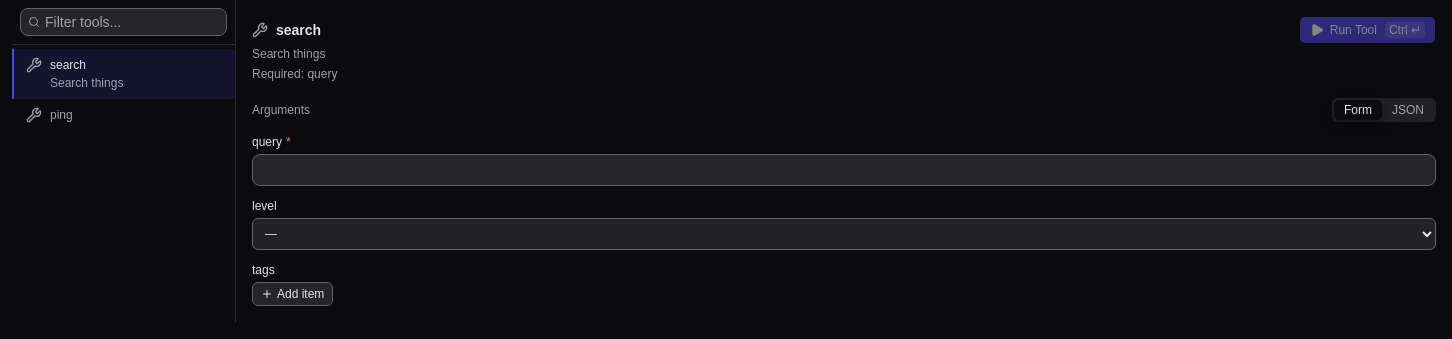
ToolPanel required arguments and run shortcut › keeps the selected tool and typed arguments after visiting another tool
The image size is (1452, 339).
Type "cats" into the field labelled "query" at (844, 170), box [252,154,1436,186]
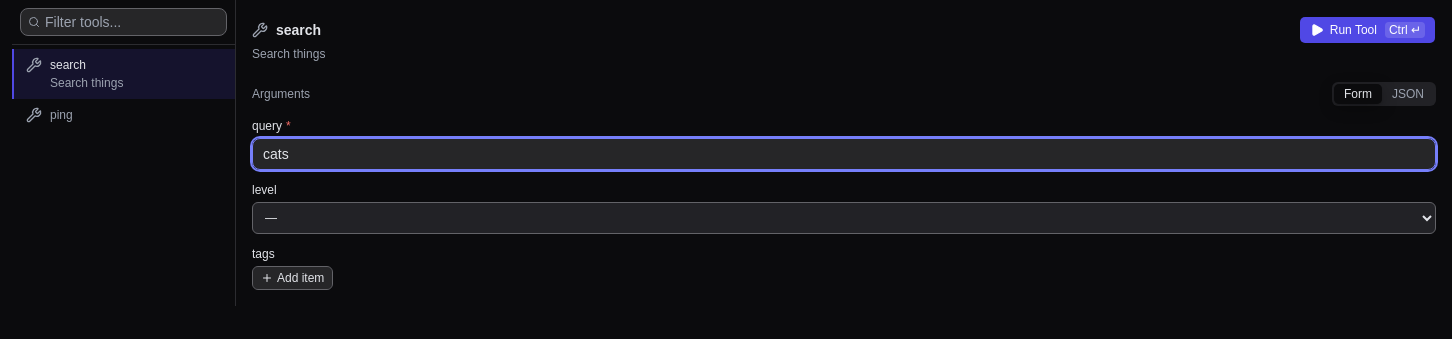
Click the button "ping" at (124, 115), box [12,99,235,131]
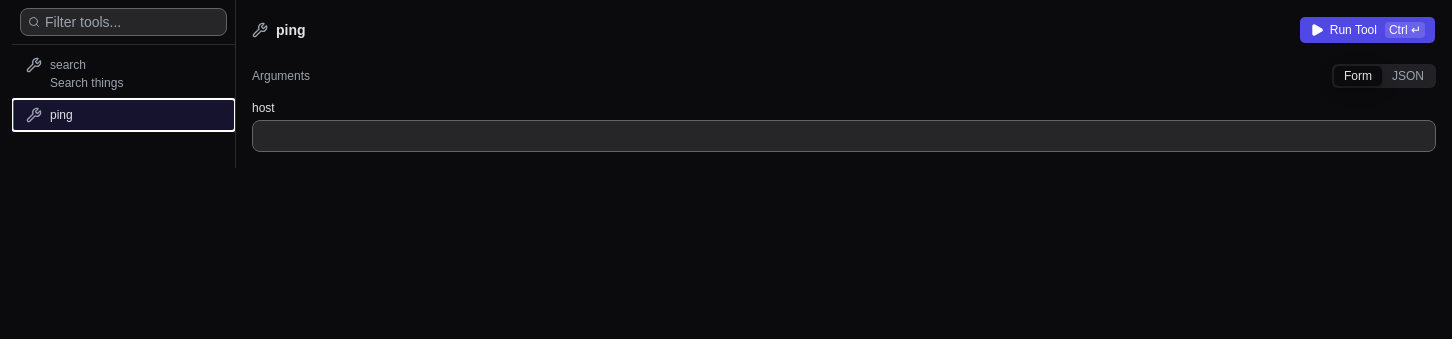
Type "example.com" into the field labelled "host" at (844, 136), box [252,120,1436,152]
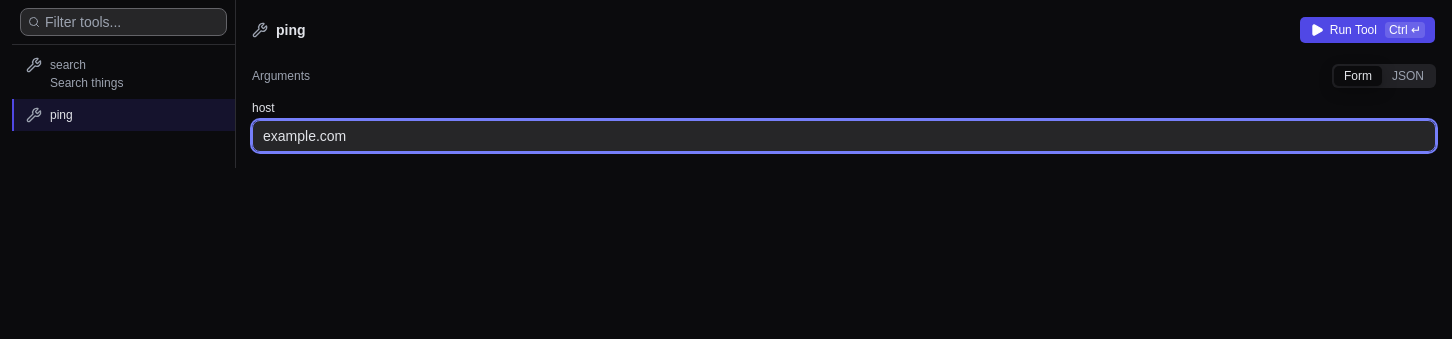
Click the button "search Search things" at (124, 74), box [12,49,235,99]
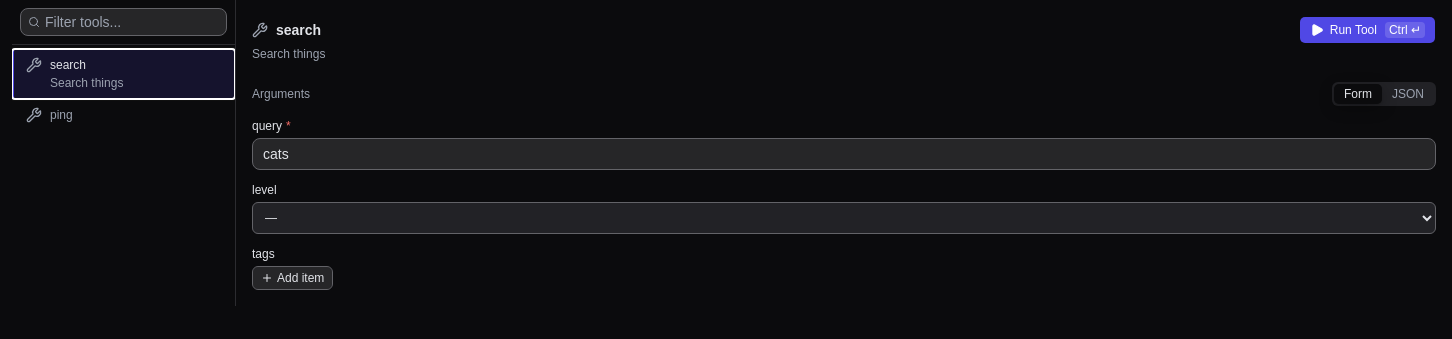
Result: the field labelled "query" holds "cats" at [252,138,1436,170]
Click the button "ping" at (124, 115), box [12,99,235,131]
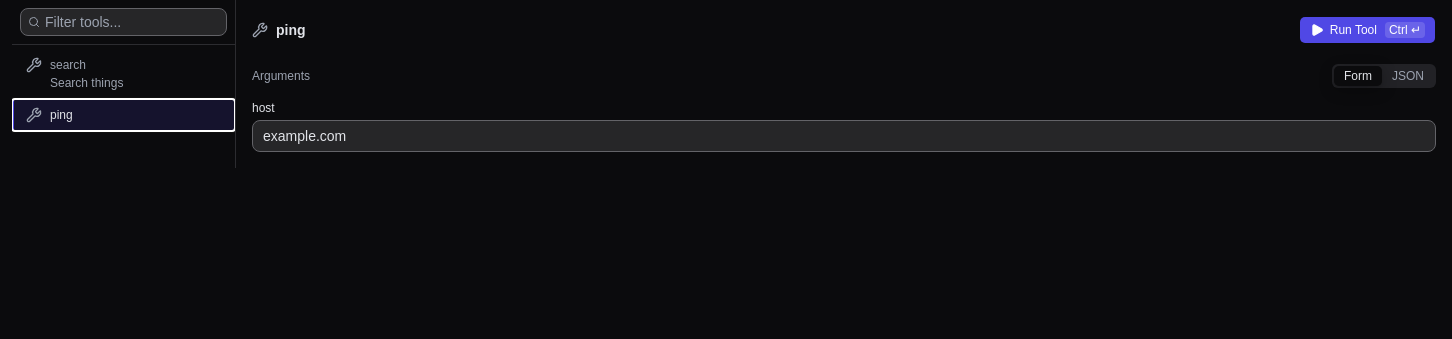
Result: the field labelled "host" holds "example.com" at [252,120,1436,152]
